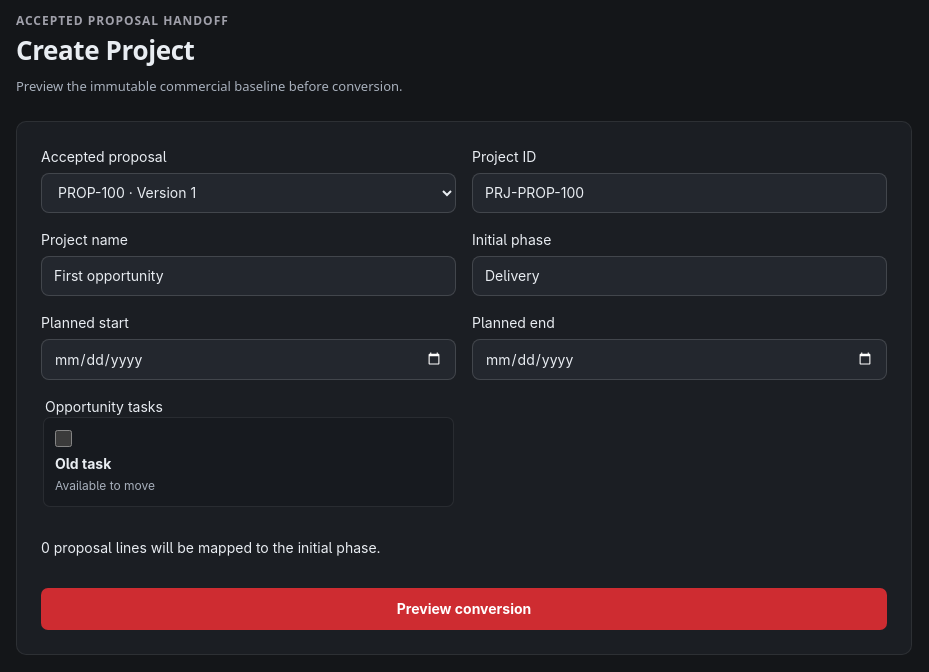
Test: LiveConversionPage › resets selection and ignores an aborted stale task load when proposals change
This screenshot has width=929, height=672.
Click the checkbox labelled "Old task" at (64, 438), box [55,430,72,447]
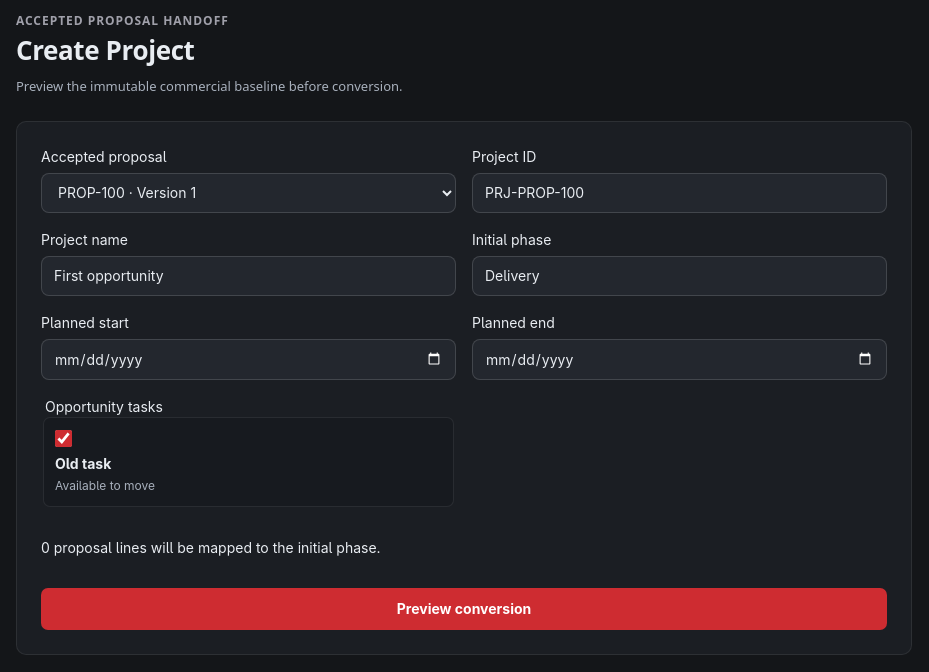
Expected: the checkbox labelled "Old task" is checked, [55,430,72,447]
Select "PROP-200 · Version 1" in the dropdown labelled "Accepted proposal" at (248, 193), box [41,173,456,213]
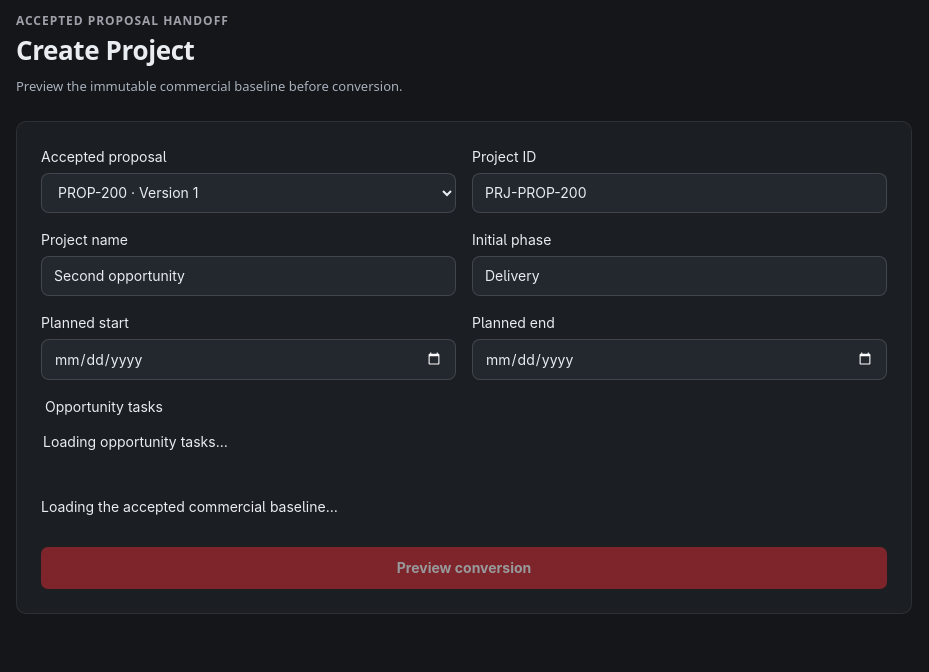
Expected: the text "Old task" is gone
Select "PROP-100 · Version 1" in the dropdown labelled "Accepted proposal" at (248, 193), box [41,173,456,213]
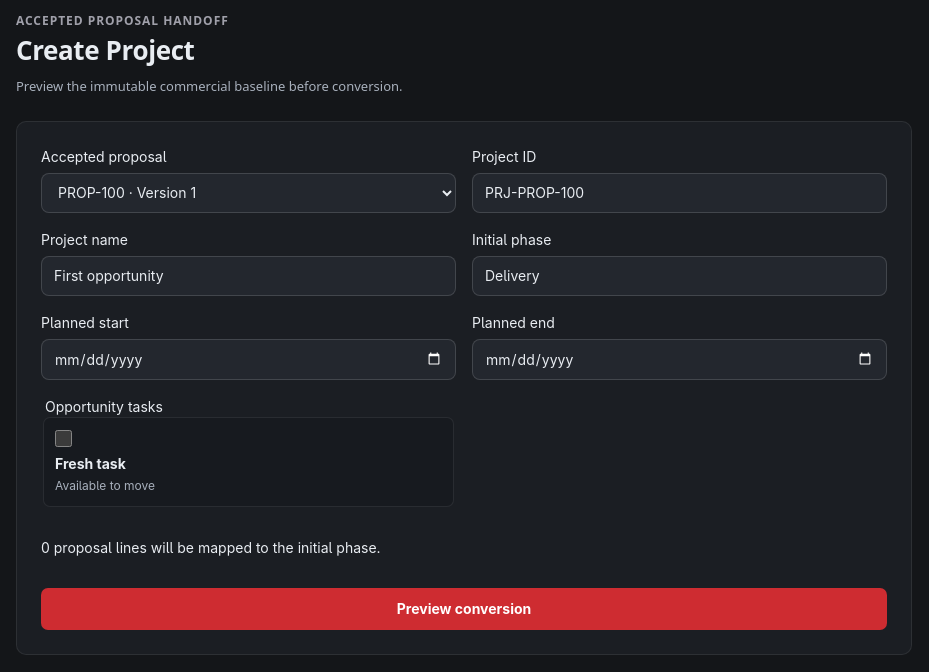
Expected: the checkbox labelled "Fresh task" is not checked, [55,430,72,447]
